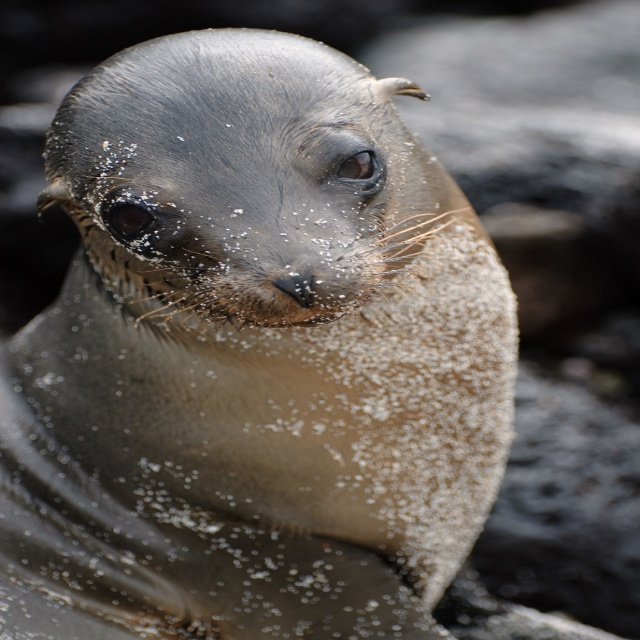Harbor seal: (0, 27, 525, 640)
